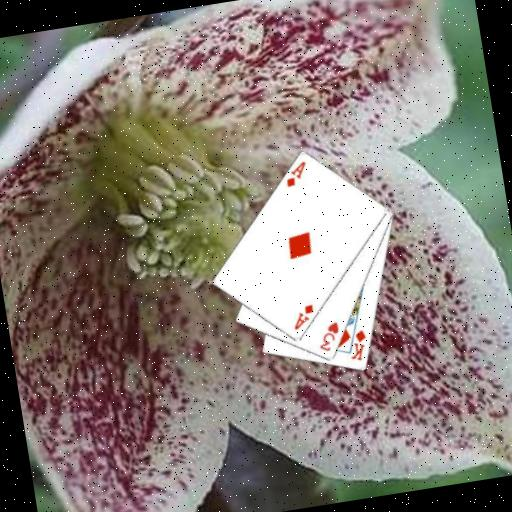3H: (312, 318, 344, 354)
AD: (287, 301, 317, 332), (280, 158, 310, 189)
KD: (343, 326, 371, 363)
